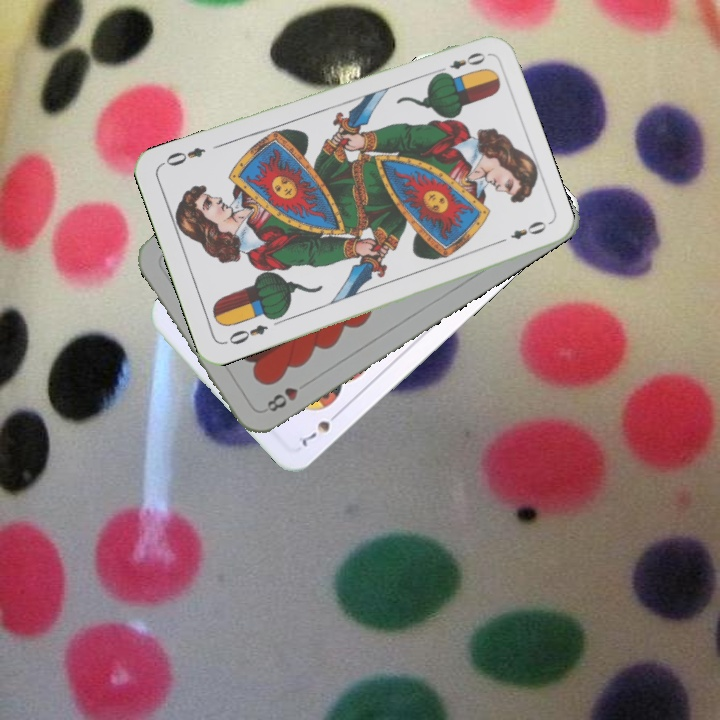EO: (432, 48, 488, 78), (224, 320, 271, 347)
H8: (263, 377, 312, 415)
S7: (297, 407, 343, 450)
